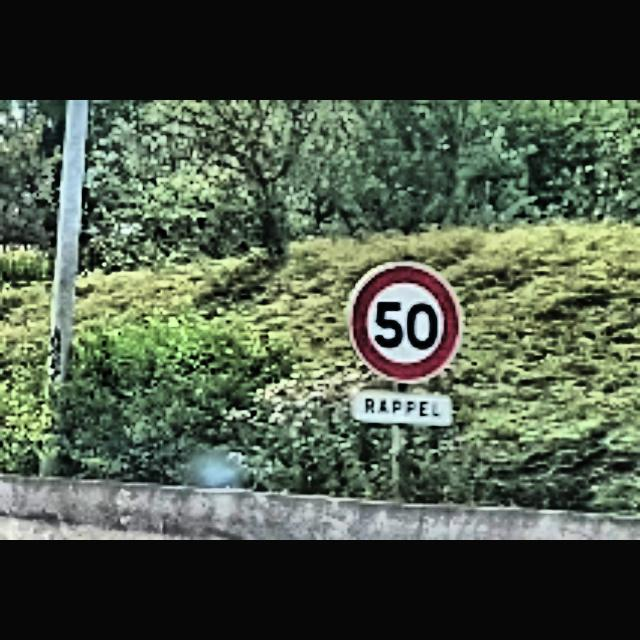speed_50: (346, 258, 464, 386)
